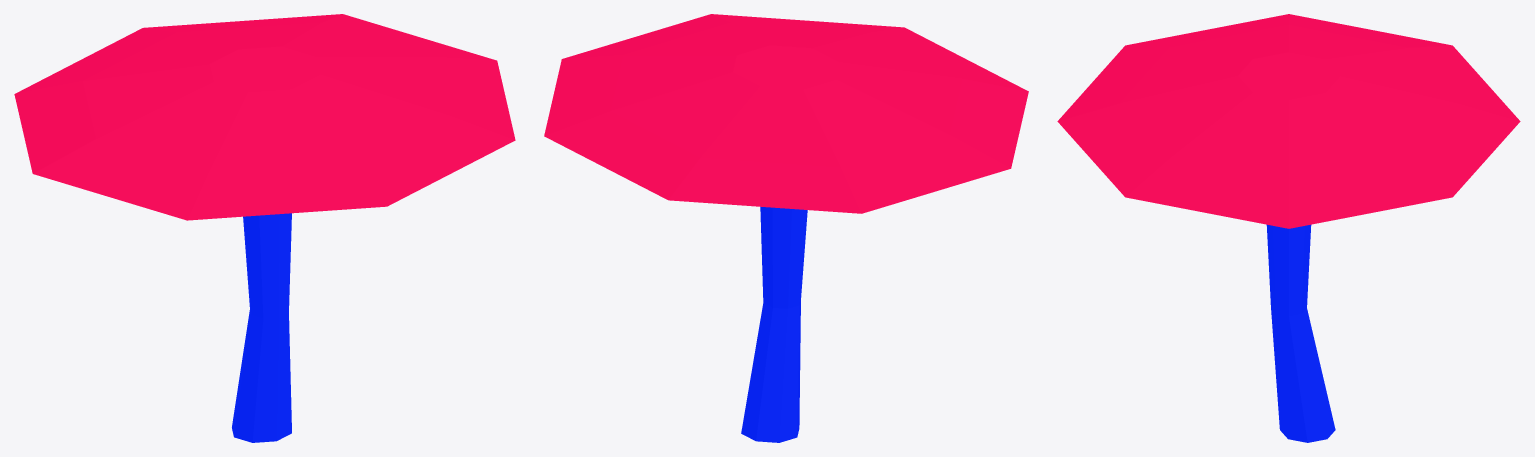
File: shroom4.fbx
The picture shows the model from 3 angles, left to right: view 1: azimuth 30°, elevation 25°; view 2: azimuth 150°, elevation 25°; view 3: azimuth 270°, elevation 25°; orthographic projection. The views are drawn at different scales.
Parts seen in each view (by area): view 1: Cylinder; view 2: Cylinder; view 3: Cylinder.
Part boxes in pixels (left/top/right/bottom): Cylinder: left=14, top=14, right=515, bottom=442; Cylinder: left=544, top=14, right=1028, bottom=442; Cylinder: left=1057, top=14, right=1520, bottom=442.
Bounding box in the file's own units: 924 × 704 × 842.
